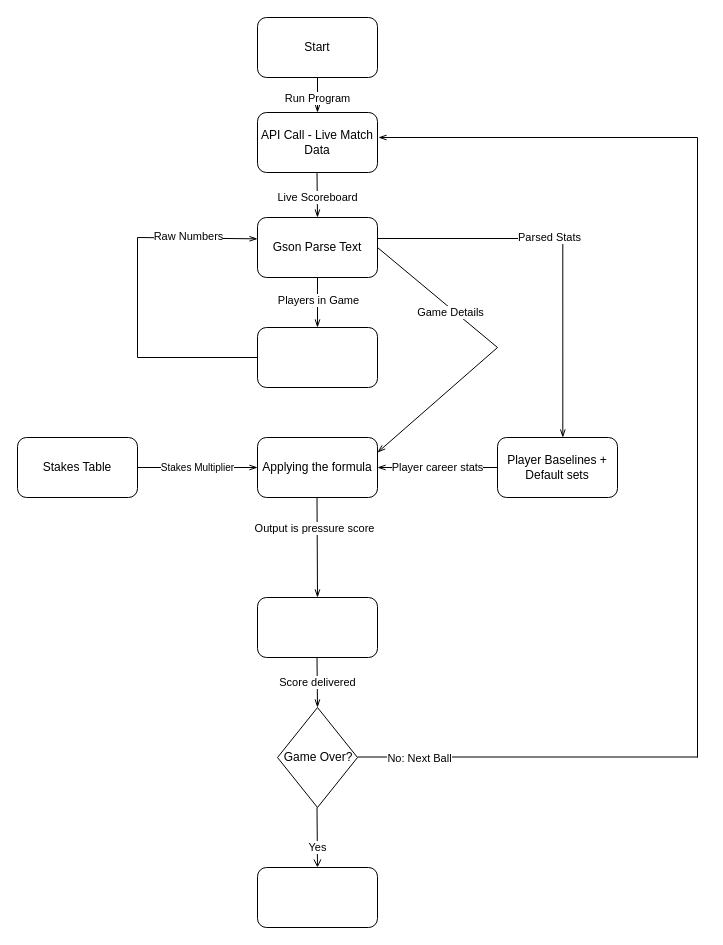
The diagram is 723 pixels wide and 945 high, and some of its shapes have lost their labels. Each missing label, with the centre of its shape:
"API Call - Player Stats" goes at [317,357].
"End" goes at [317,897].
"Printing the final score" goes at [317,627].
